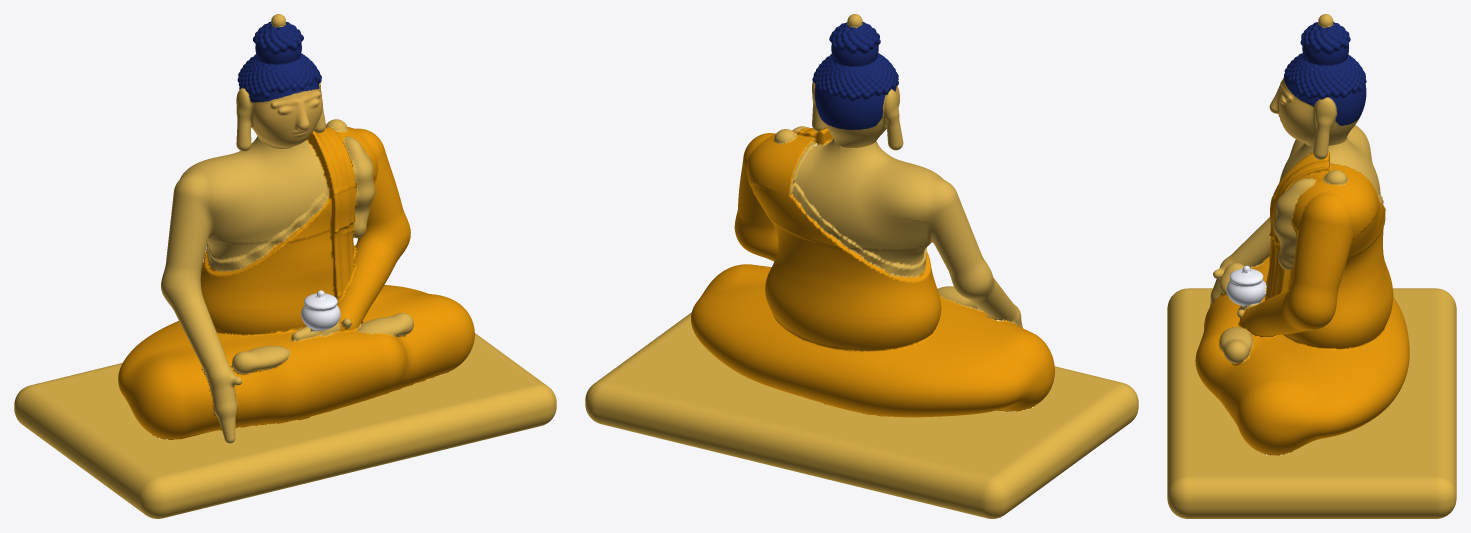
Rendered from bodhgaya.glb.
3 renders of one model, left to right at view 1: azimuth 30°, elevation 25°; view 2: azimuth 150°, elevation 25°; view 3: azimuth 270°, elevation 25°, orthographic. The views are drawn at different scales.
Parts seen in each view (by area): view 1: statue-bodhgaya; view 2: statue-bodhgaya; view 3: statue-bodhgaya.
Part boxes in pixels (left/top/right/bottom): statue-bodhgaya: left=14, top=14, right=556, bottom=518; statue-bodhgaya: left=585, top=14, right=1138, bottom=518; statue-bodhgaya: left=1167, top=14, right=1456, bottom=518.
Size of the model in its own units: 1.4 by 1.31 by 0.84.
